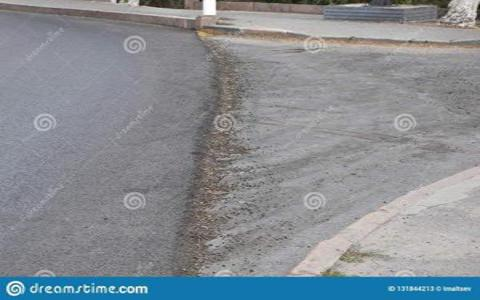Proper road: (31, 39, 163, 231)
